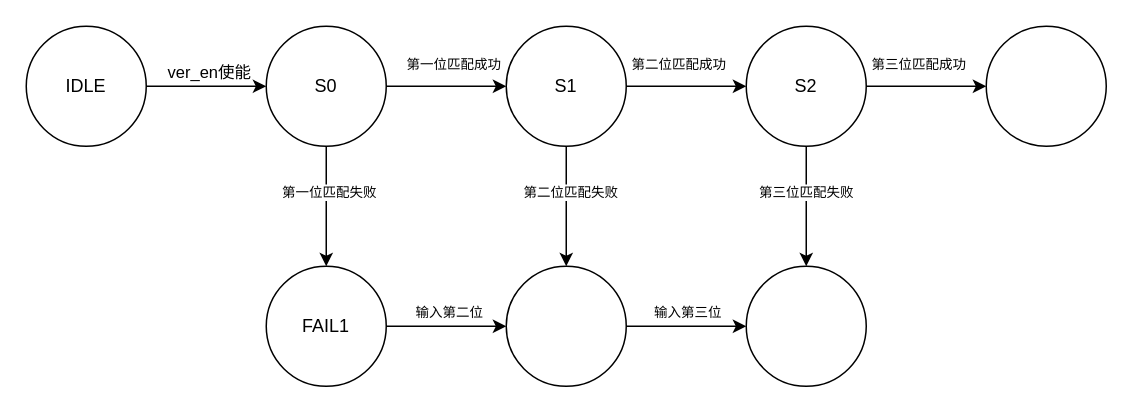
Some shapes in this 1133 by 413 pixel diagram are drawn without their labels. Each missing label, with the centre of its shape:
"FAIL2" belongs at (565,325).
"FAIL3" belongs at (805,325).
"S3" belongs at (1045,85).
